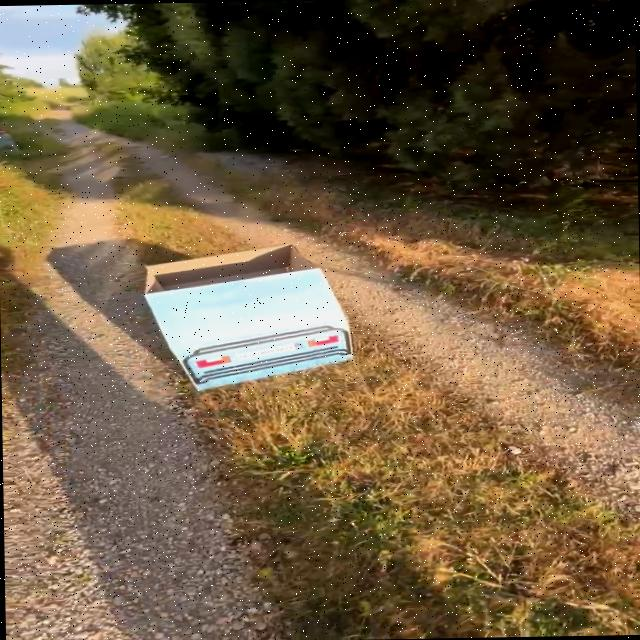blue_car: (117, 225, 380, 403)
